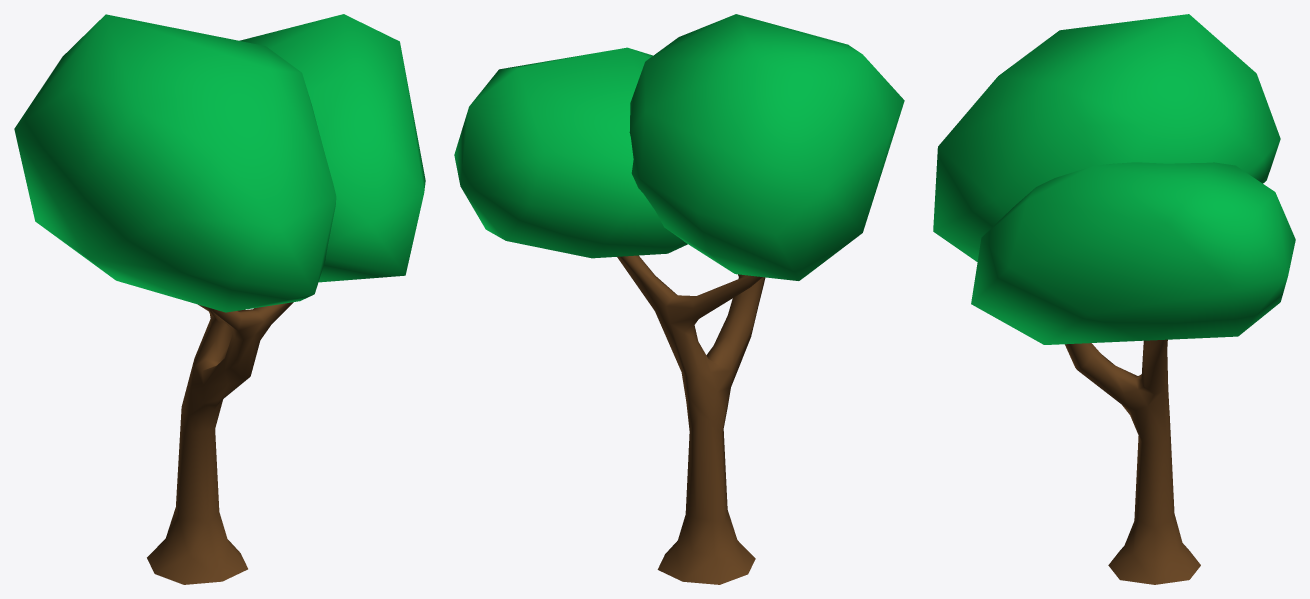
Rendered from Tree_1.fbx.
The picture shows the model from 3 angles, left to right: view 1: azimuth 30°, elevation 25°; view 2: azimuth 150°, elevation 25°; view 3: azimuth 270°, elevation 25°; orthographic projection. The views are drawn at different scales.
Parts seen in each view (by area): view 1: Tree_1; view 2: Tree_1; view 3: Tree_1.
Part boxes in pixels (left/top/right/bottom): Tree_1: left=14, top=14, right=425, bottom=584; Tree_1: left=454, top=14, right=904, bottom=584; Tree_1: left=933, top=14, right=1295, bottom=584.
Size of the model in its own units: 1103 by 1562 by 991.
